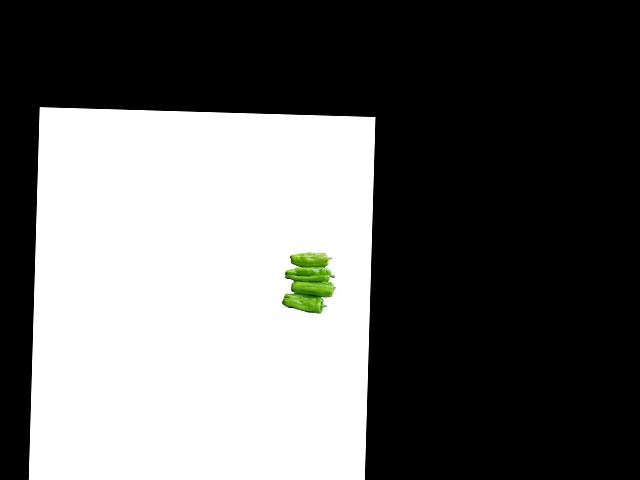bell_pepper: (278, 292, 329, 313)
